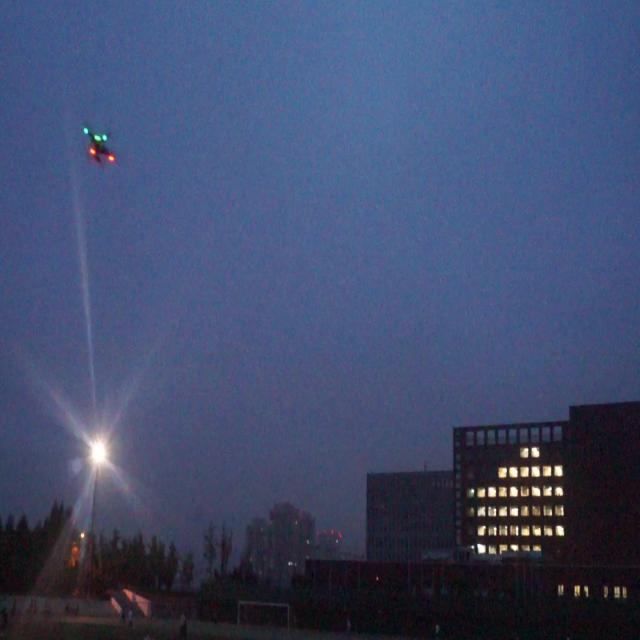drone: (81, 120, 118, 171)
